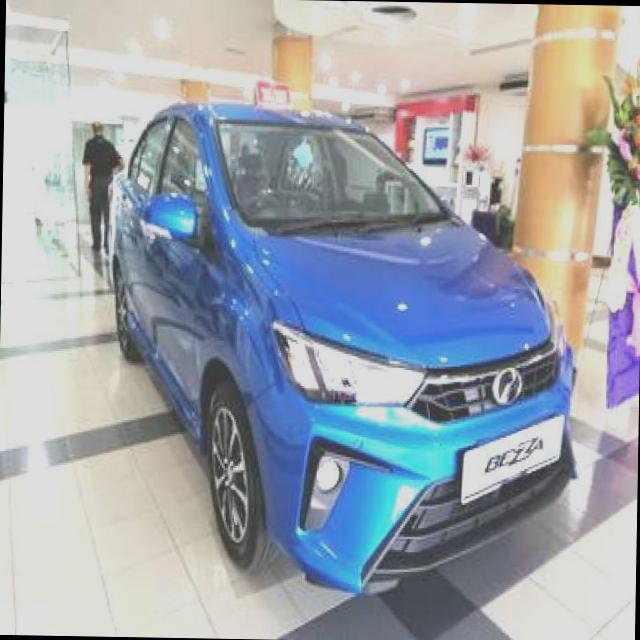PeroduaBezza: (102, 97, 583, 598)
